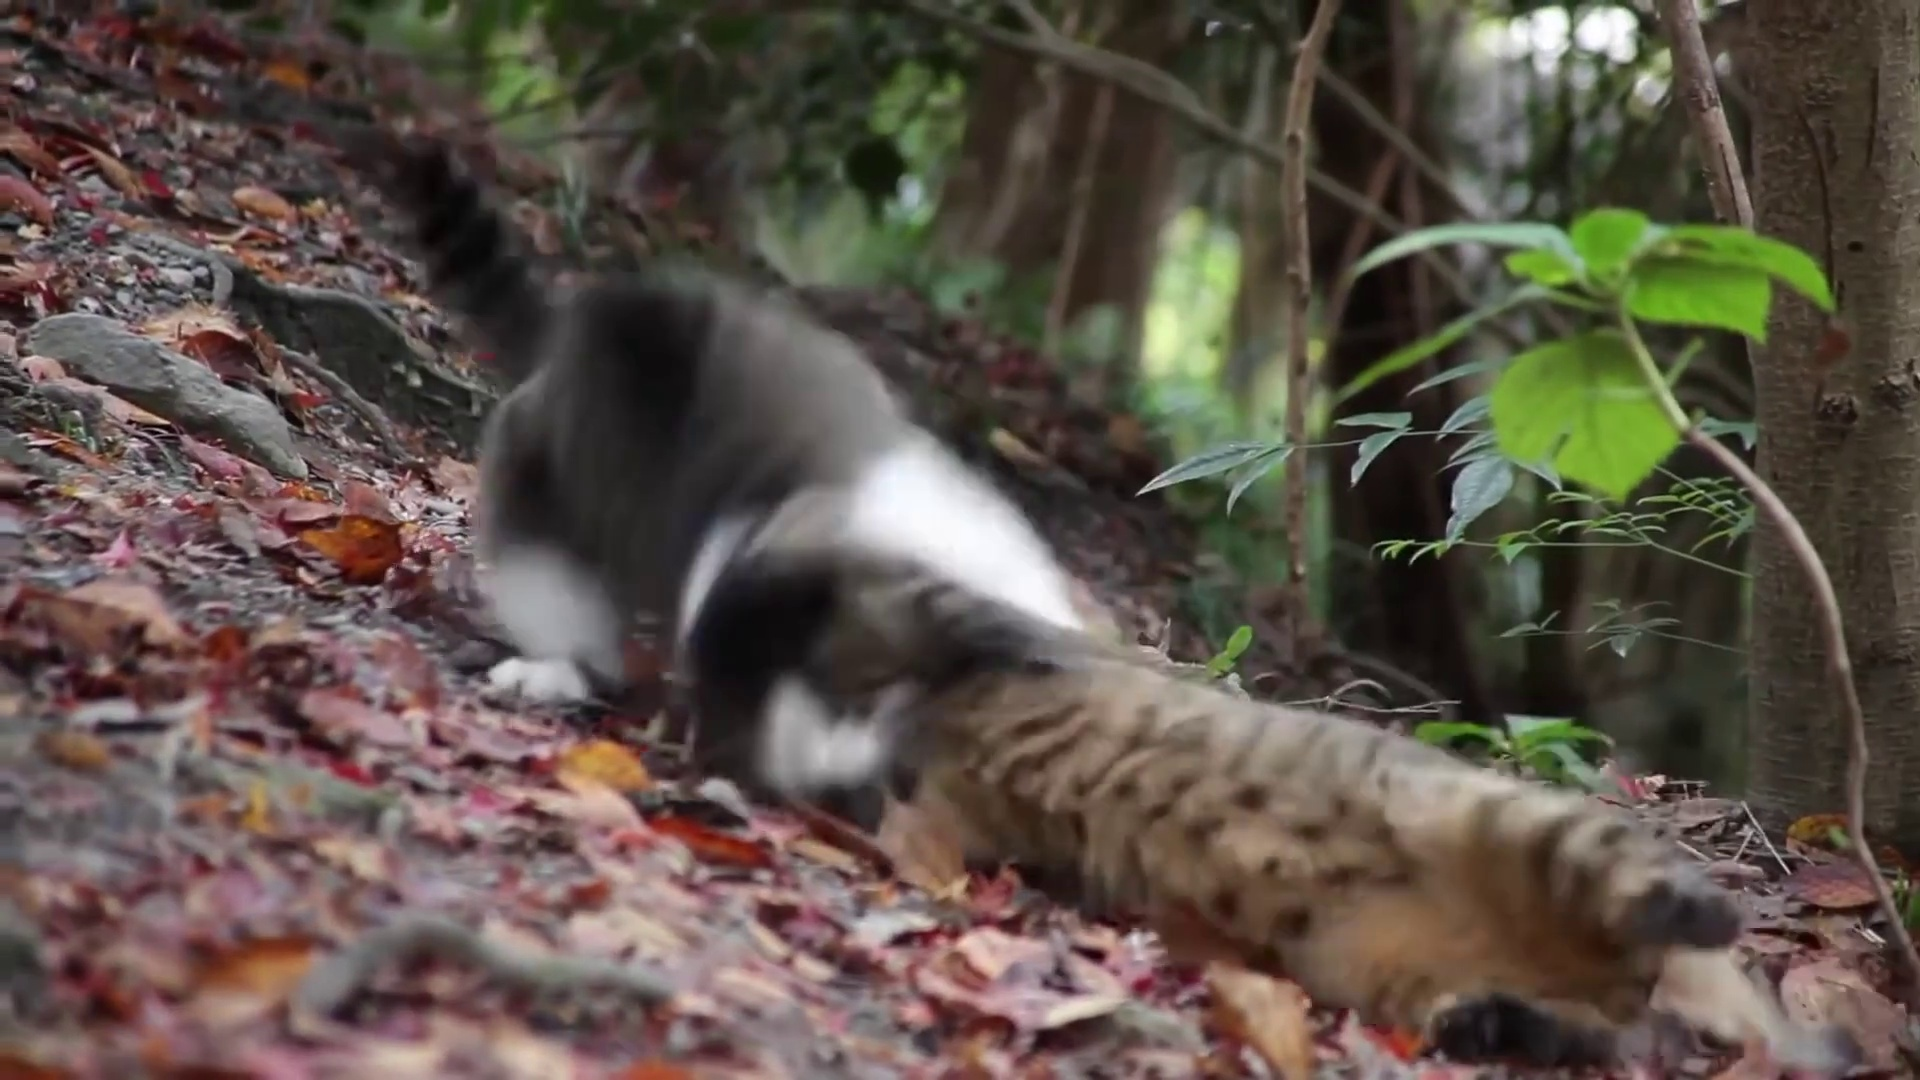black-white: (389, 150, 1083, 799)
pure black: (882, 657, 1743, 1073)
